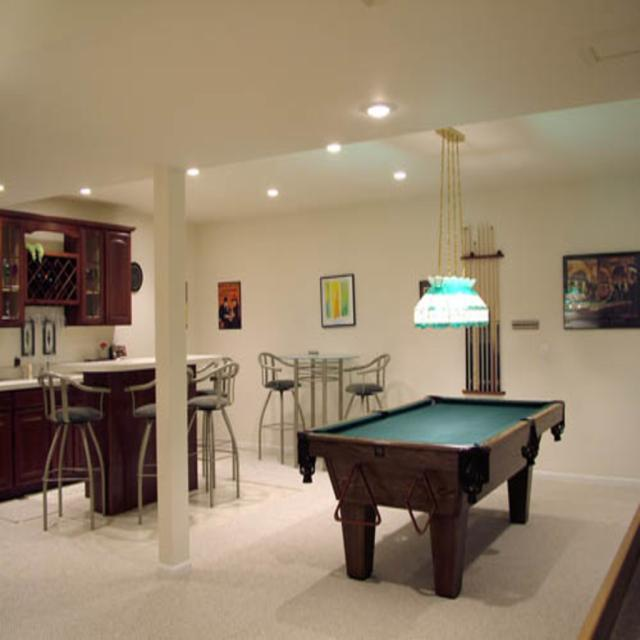Billiard table: (298, 392, 566, 598)
